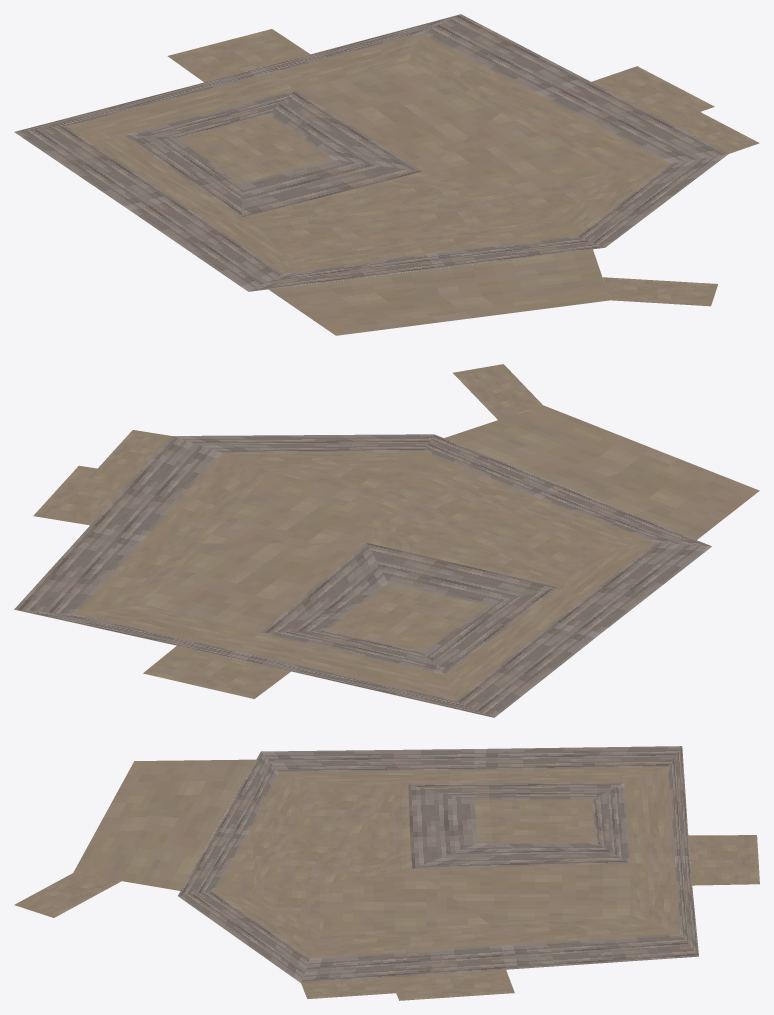
Rendered from fort_top_kings_footprint.fbx.
3 views of the same model, one above another, from view 1: azimuth 30°, elevation 25°; view 2: azimuth 150°, elevation 25°; view 3: azimuth 270°, elevation 25° (orthographic). The views are drawn at different scales.
Parts seen in each view (by area): view 1: footprint; view 2: footprint; view 3: footprint.
Boxes of the visible parts, x1,y1,x2,y2 form: footprint: (14, 14, 759, 335); footprint: (14, 364, 759, 717); footprint: (14, 746, 759, 1000).
Bounding box in the file's own units: 40865 × 8.83 × 50563.
Materials: 2 (2 with a texture image).
